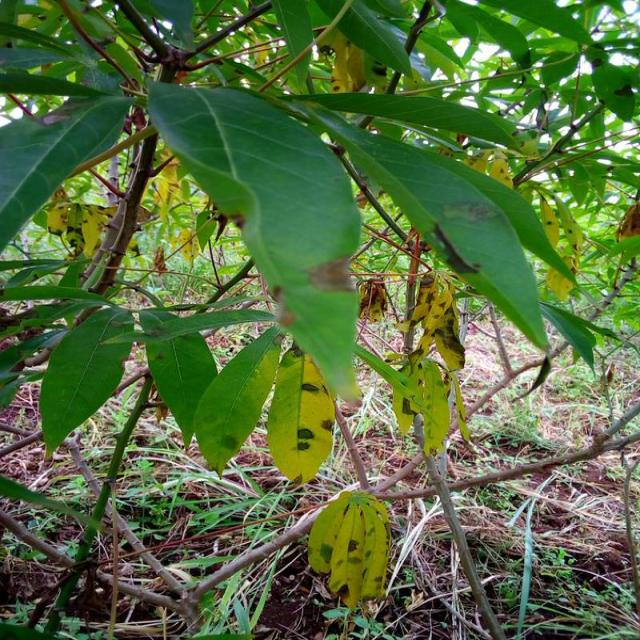cassava leaf: (286, 93, 572, 353), (145, 78, 362, 402), (0, 90, 133, 252), (38, 304, 134, 460), (192, 322, 282, 478), (140, 307, 218, 448), (306, 489, 392, 610), (266, 344, 336, 486)
